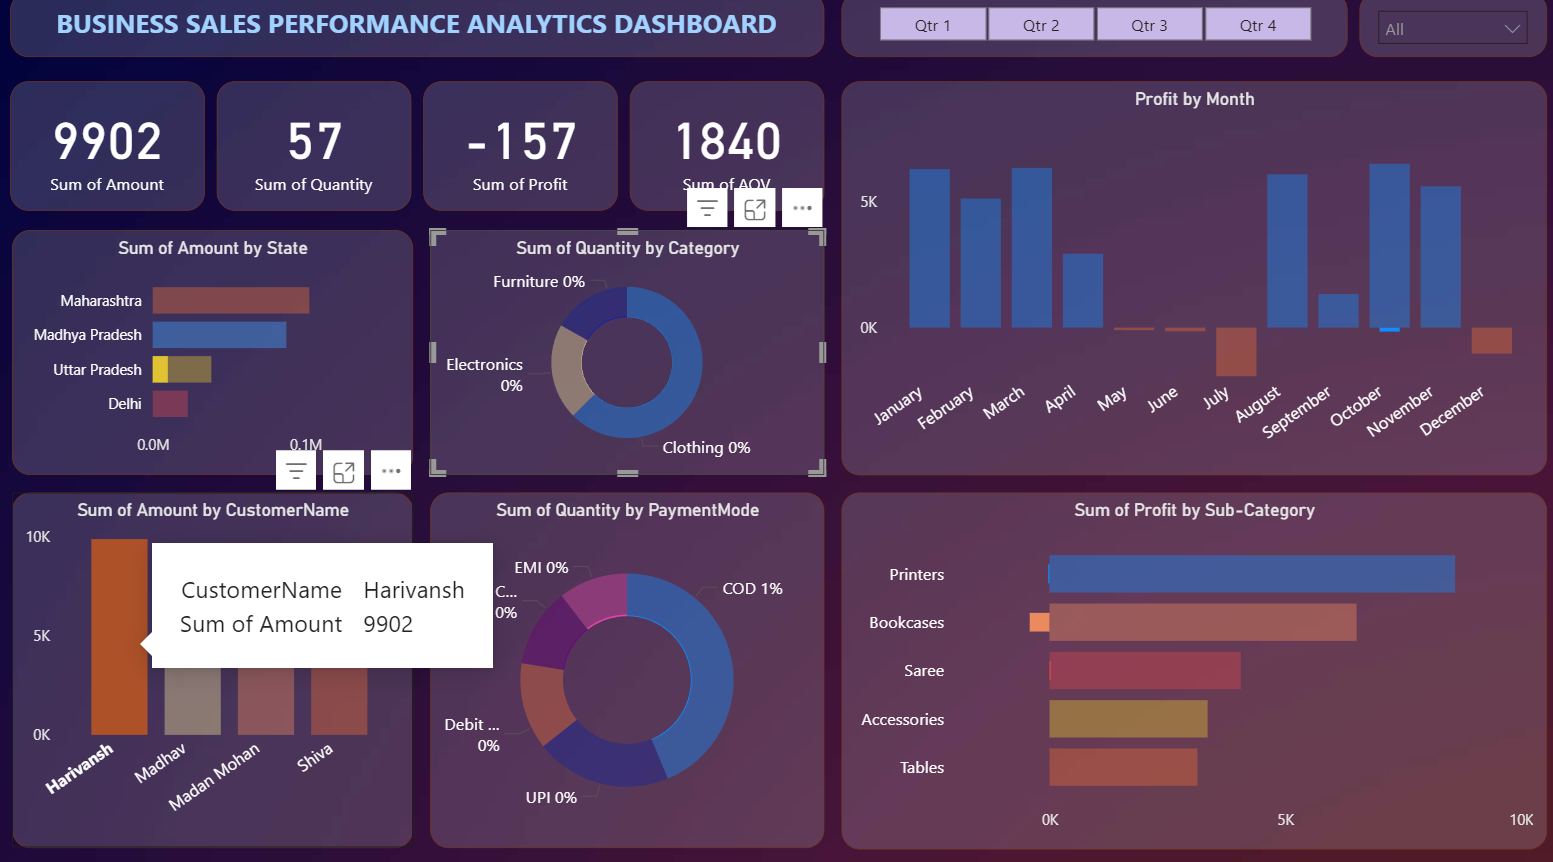

The page's visual inventory and layout, read from the dashboard file:
{"tool":"powerbi","page":{"name":"Page 1","canvas":[1280,720],"ordinal":0},"visuals":[{"type":"textbox","box":[10,0,664.3,52.9],"z":0},{"type":"columnChart","title":"Profit by Month","fields":{"Y":["Sum(Details.Profit)"],"Category":["Orders.Order Date.Variation.Date Hierarchy.Month"]},"box":[688.6,72.9,575.7,321.4],"z":1000},{"type":"barChart","fields":{"Category":["Details.Sub-Category"],"Y":["Sum(Details.Profit)"]},"box":[688.6,408.6,575.7,291.4],"z":2000},{"type":"donutChart","fields":{"Category":["Details.Category"],"Y":["Sum(Details.Quantity)"]},"box":[352.9,194.3,321.4,200],"z":3000},{"type":"donutChart","fields":{"Y":["Sum(Details.Quantity)"],"Category":["Details.PaymentMode"]},"box":[352.9,408.6,321.4,290],"z":4000},{"type":"card","fields":{"Values":["Sum(Details.Amount)"]},"box":[10,72.9,158.6,105.7],"z":5000},{"type":"card","fields":{"Values":["Sum(Details.Quantity)"]},"box":[178.6,72.9,158.6,105.7],"z":6000},{"type":"card","fields":{"Values":["Sum(Details.Profit)"]},"box":[347.1,72.9,158.6,105.7],"z":7000},{"type":"card","fields":{"Values":["Sum(Details.AOV)"]},"box":[515.7,72.9,158.6,105.7],"z":8000},{"type":"barChart","fields":{"Category":["Orders.State"],"Y":["Sum(Details.Amount)"]},"box":[11.4,194.3,327.1,200],"z":9000},{"type":"columnChart","fields":{"Category":["Orders.CustomerName"],"Y":["Sum(Details.Amount)"]},"box":[11.4,408.6,327.1,290],"z":10000},{"type":"slicer","fields":{"Values":["Orders.Order Date.Variation.Date Hierarchy.Quarter"]},"box":[688.6,0,412.9,52.9],"z":11000},{"type":"slicer","fields":{"Values":["Orders.State"]},"box":[1111.4,0,152.9,52.9],"z":12000}]}

Visuals, with their boxes in screenshot pixels (x1, y1, x2, y2), scaled from the page's 1280x720 canvas onto the 1553x862 screenshot:
textbox: region(12, 0, 818, 63)
"Profit by Month" columnChart: region(835, 87, 1534, 472)
barChart - Details.Sub-Category x Sum(Details.Profit): region(835, 489, 1534, 838)
donutChart - Details.Category x Sum(Details.Quantity): region(428, 233, 818, 472)
donutChart - Sum(Details.Quantity) x Details.PaymentMode: region(428, 489, 818, 836)
card - Sum(Details.Amount): region(12, 87, 205, 214)
card - Sum(Details.Quantity): region(217, 87, 409, 214)
card - Sum(Details.Profit): region(421, 87, 614, 214)
card - Sum(Details.AOV): region(626, 87, 818, 214)
barChart - Orders.State x Sum(Details.Amount): region(14, 233, 411, 472)
columnChart - Orders.CustomerName x Sum(Details.Amount): region(14, 489, 411, 836)
slicer - Orders.Order Date.Variation.Date Hierarchy.Quarter: region(835, 0, 1336, 63)
slicer - Orders.State: region(1348, 0, 1534, 63)
